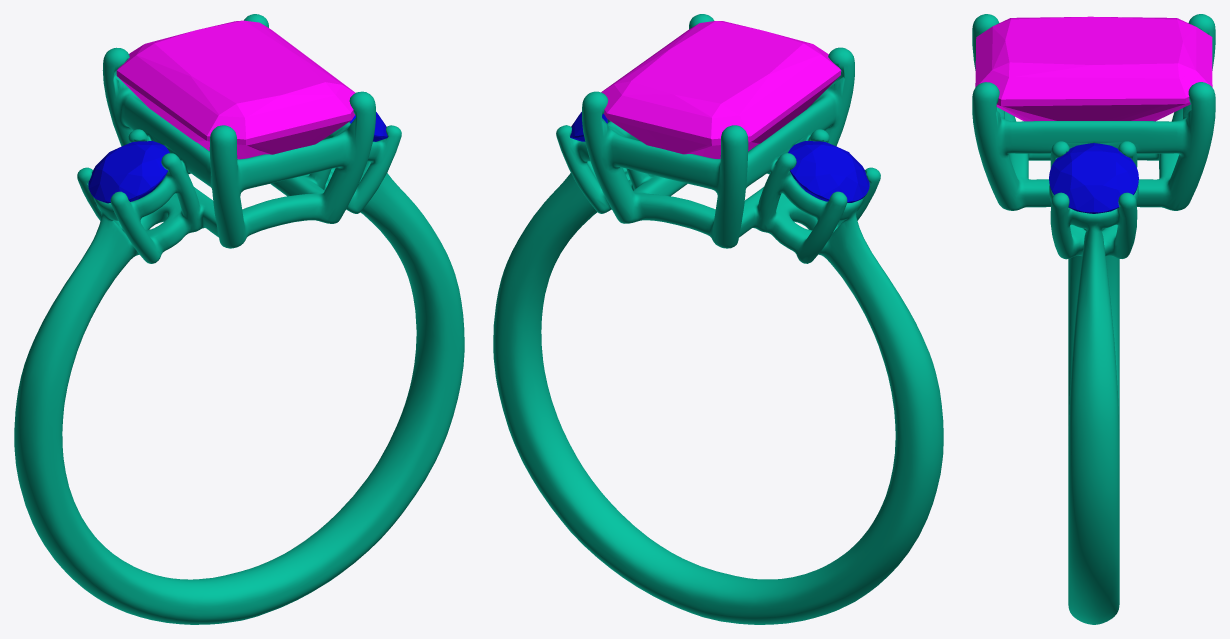
The model's file is BE1D352_RA_200ct_RENDER.glb.
3 views of the same model, side by side, from view 1: azimuth 30°, elevation 25°; view 2: azimuth 150°, elevation 25°; view 3: azimuth 270°, elevation 25° (orthographic).
Parts seen in each view (by area): view 1: Metal 01, CS_Diamond_Radiant, Diamond_Round_side; view 2: Metal 01, CS_Diamond_Radiant, Diamond_Round_side; view 3: Metal 01, CS_Diamond_Radiant, Diamond_Round_side.001.
Boxes of the visible parts, left/top/right/bottom form: Metal 01: left=14, top=14, right=464, bottom=624; CS_Diamond_Radiant: left=116, top=20, right=355, bottom=159; Diamond_Round_side: left=88, top=141, right=169, bottom=203; Metal 01: left=493, top=14, right=943, bottom=624; CS_Diamond_Radiant: left=601, top=21, right=841, bottom=158; Diamond_Round_side: left=788, top=141, right=869, bottom=202; Metal 01: left=972, top=14, right=1215, bottom=624; CS_Diamond_Radiant: left=975, top=16, right=1212, bottom=121; Diamond_Round_side.001: left=1049, top=143, right=1138, bottom=213.
Bounding box in the file's own units: 20.08 × 24.11 × 9.49.
